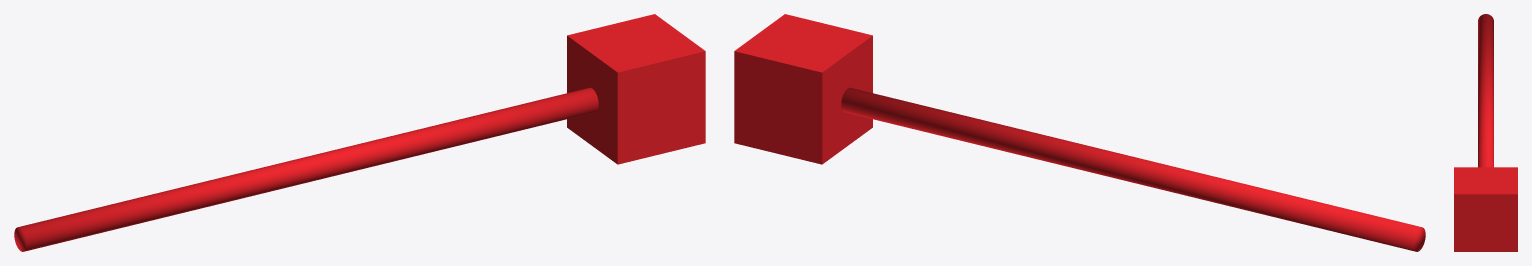
File: scale_1_axis.obj
The picture shows the model from 3 angles, left to right: view 1: azimuth 30°, elevation 25°; view 2: azimuth 150°, elevation 25°; view 3: azimuth 270°, elevation 25°; orthographic projection. The views are drawn at different scales.
Visible parts, largest first — view 1: gizmo_Cube.002; view 2: gizmo_Cube.002; view 3: gizmo_Cube.002.
Boxes of the visible parts, x1,y1,x2,y2 form: gizmo_Cube.002: (14,14,705,251); gizmo_Cube.002: (734,14,1425,251); gizmo_Cube.002: (1454,14,1517,251).
Bounding box in the file's own units: 7.5 × 1 × 1.
